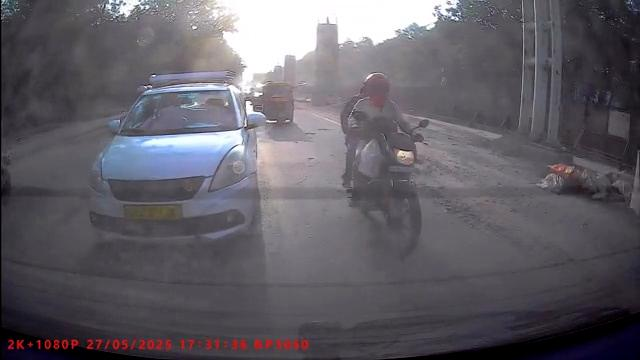motorcycle_with_helmet: (338, 69, 430, 257)
